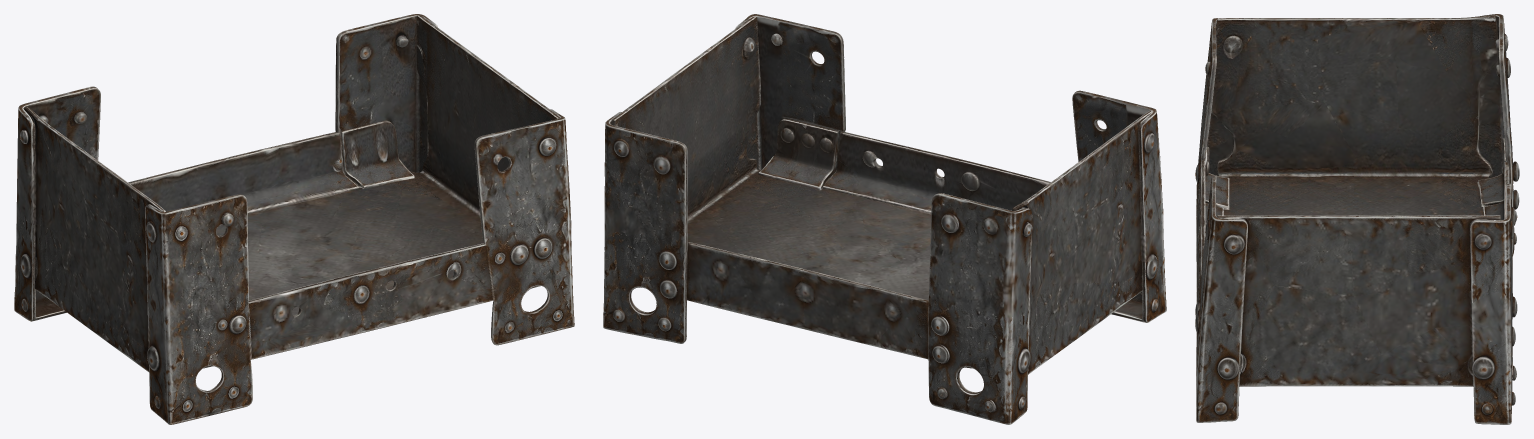
Rendered from burzhuyka-brazier-v1.glb.
3 renders of one model, left to right at view 1: azimuth 30°, elevation 25°; view 2: azimuth 150°, elevation 25°; view 3: azimuth 270°, elevation 25°, orthographic.
Parts seen in each view (by area): view 1: Physical scale in metres — estimated; view 2: Physical scale in metres — estimated; view 3: Physical scale in metres — estimated.
Boxes of the visible parts, x1=… form: Physical scale in metres — estimated: x1=14, y1=14, x2=574, y2=424; Physical scale in metres — estimated: x1=603, y1=14, x2=1166, y2=424; Physical scale in metres — estimated: x1=1195, y1=14, x2=1519, y2=424.
Bounding box in the file's own units: 0.513 × 0.25 × 0.3451.
Materials: 1 (1 with a texture image).
